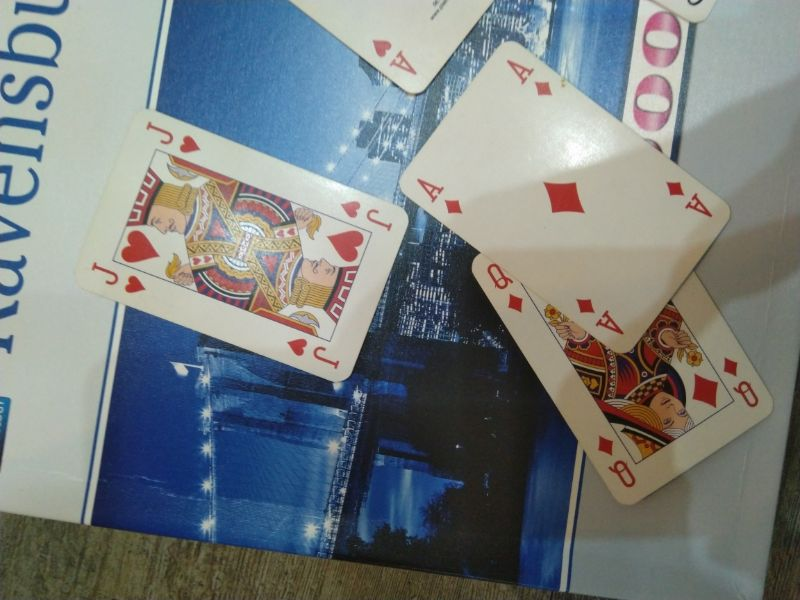Ad: (499, 53, 560, 103), (572, 291, 628, 344), (660, 174, 719, 224), (412, 170, 470, 219)
Ah: (367, 33, 424, 83)
Jh: (283, 330, 349, 376), (137, 116, 205, 159), (335, 193, 399, 235), (87, 260, 152, 297)
Qd: (590, 432, 643, 494), (717, 352, 767, 413), (483, 257, 532, 317)
